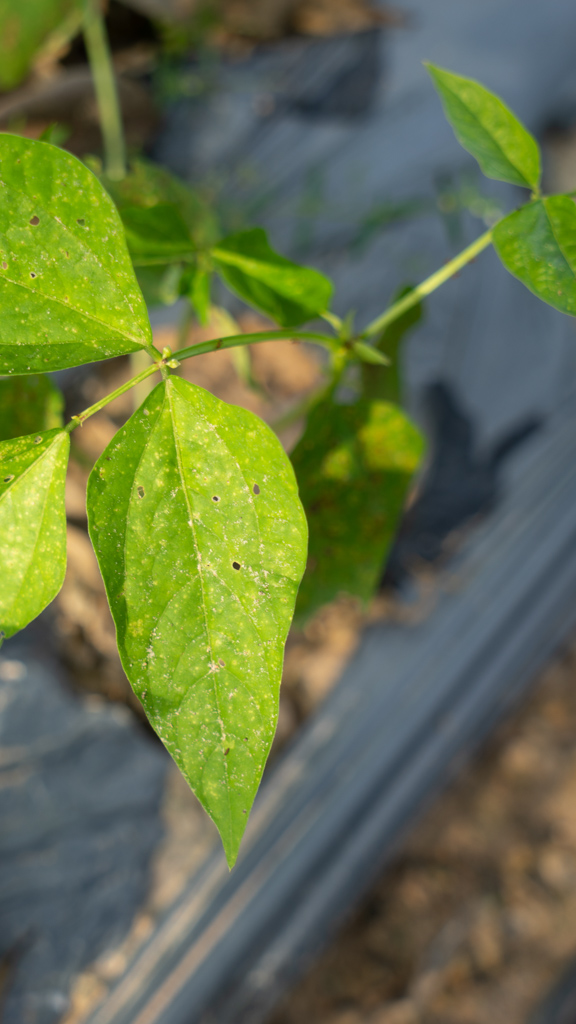Rust: (102, 391, 308, 831), (4, 124, 149, 385), (7, 413, 70, 647)
